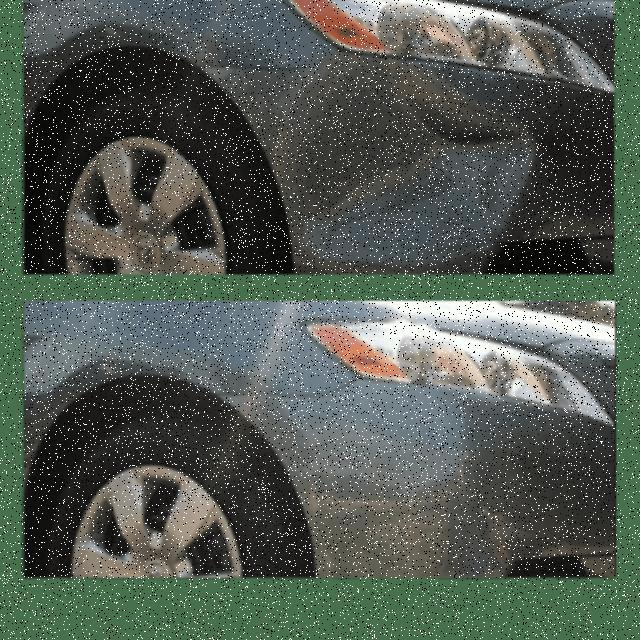front-bumper-dent: (255, 48, 636, 286)
